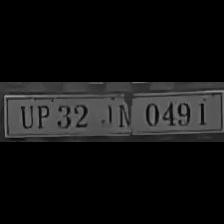0: (141, 100, 161, 126)
1: (194, 98, 212, 125)
2: (70, 100, 92, 130)
3: (52, 100, 72, 128)
4: (160, 99, 176, 125)
9: (172, 99, 192, 125)
P: (32, 102, 50, 128)
U: (15, 102, 33, 128)
